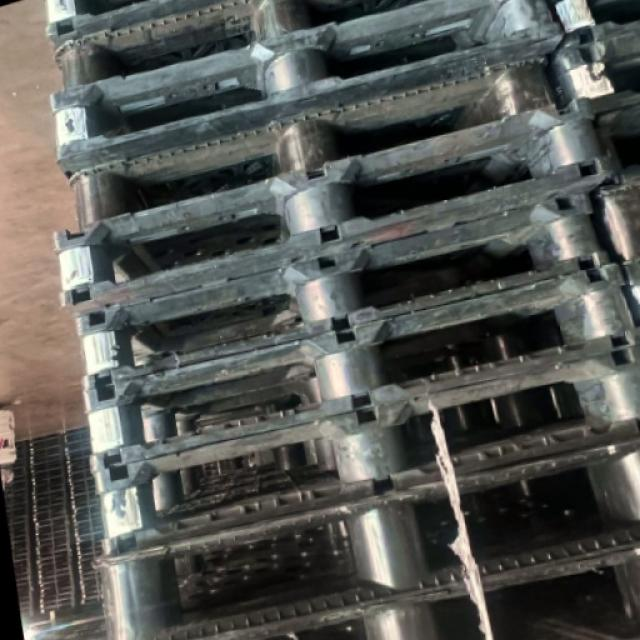igps: (49, 89, 626, 312), (86, 335, 640, 562), (75, 260, 640, 482), (85, 422, 640, 640), (68, 180, 616, 396), (63, 27, 564, 245), (46, 0, 570, 186), (136, 533, 640, 640), (50, 0, 435, 96), (41, 0, 258, 54)
